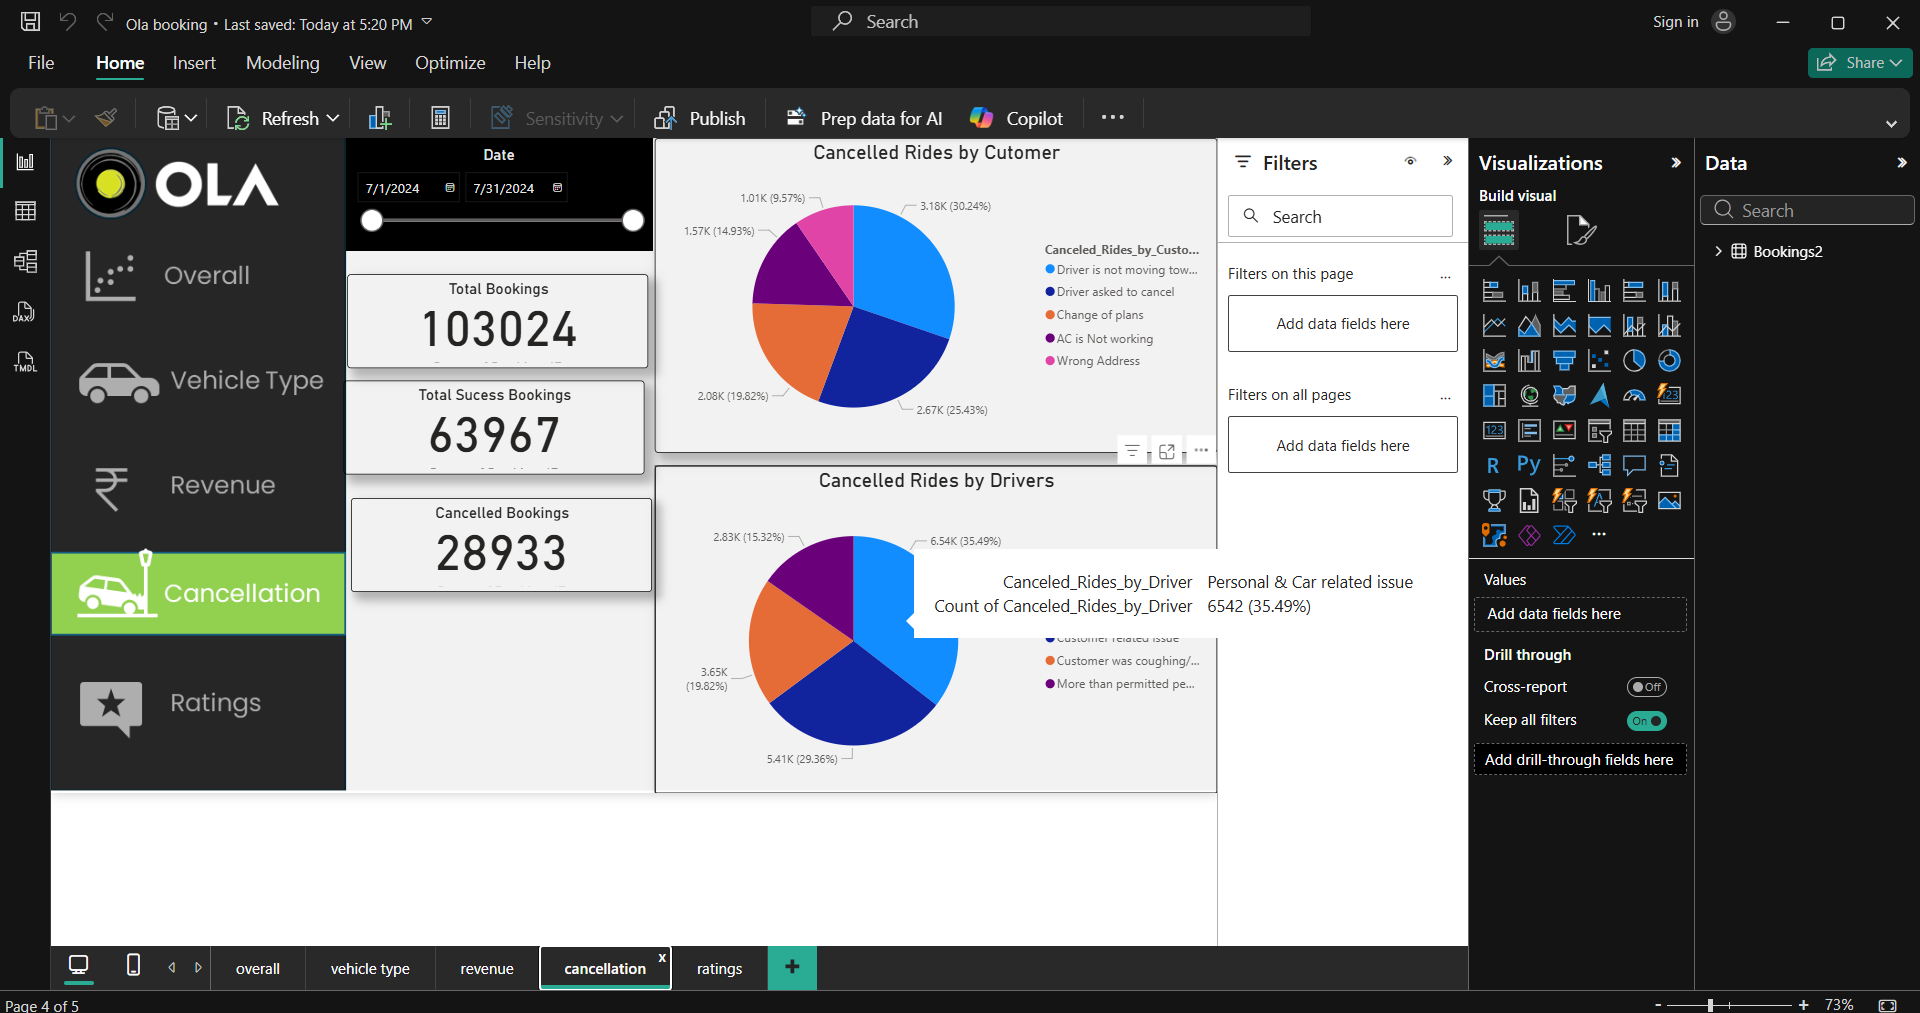

What the dashboard file says about the page in this screenshot:
{"tool":"powerbi","page":{"name":"cancellation","canvas":[1280,720],"ordinal":3},"visuals":[{"type":"actionButton","box":[0,219.6,321.5,93.3],"z":0},{"type":"actionButton","box":[0,223.3,321.5,93.3],"z":1000},{"type":"actionButton","box":[0,108,321.5,93.3],"z":2000},{"type":"actionButton","box":[2.5,335,321.2,93.8],"z":3000},{"type":"actionButton","box":[2.5,581.2,318.8,85],"z":4000},{"type":"actionButton","box":[2.5,115,318.8,86.2],"z":5000},{"type":"pieChart","title":"Cancelled Rides by Cutomer","fields":{"Category":["Bookings2.Canceled_Rides_by_Customer"],"Y":["CountNonNull(Bookings2.Canceled_Rides_by_Customer)"]},"box":[662.8,0,617.5,345.8],"z":6000},{"type":"pieChart","title":"Cancelled Rides by Drivers","fields":{"Category":["Bookings2.Canceled_Rides_by_Driver"],"Y":["CountNonNull(Bookings2.Canceled_Rides_by_Driver)"]},"box":[662.8,359.5,617.5,360.9],"z":7000},{"type":"slicer","title":"Date","fields":{"Values":["Bookings2.Date"]},"box":[323.8,0,336.2,123.8],"z":8000},{"type":"card","title":"Total Bookings","fields":{"Values":["Count(Bookings2.Booking_ID)"]},"box":[325.2,149.6,330.7,102.9],"z":9000},{"type":"card","title":"Total Sucess Bookings","fields":{"Values":["Count(Bookings2.Booking_ID)"]},"box":[321.1,266.2,330.7,102.9],"z":10000},{"type":"card","title":"Cancelled Bookings","fields":{"Values":["Count(Bookings2.Booking_ID)"]},"box":[329.3,395.2,330.7,102.9],"z":11000}]}

Visuals, with their boxes on the page's 1280x720 design canvas (x1, y1, x2, y2). These are canvas units, not pixel positions in the 1920x1013 screenshot, which may show the page scaled, cropped or inside an application window:
actionButton: (0, 220, 322, 313)
actionButton: (0, 223, 322, 317)
actionButton: (0, 108, 322, 201)
actionButton: (2, 335, 324, 429)
actionButton: (2, 581, 321, 666)
actionButton: (2, 115, 321, 201)
"Cancelled Rides by Cutomer" pieChart: (663, 0, 1280, 346)
"Cancelled Rides by Drivers" pieChart: (663, 360, 1280, 720)
"Date" slicer: (324, 0, 660, 124)
"Total Bookings" card: (325, 150, 656, 252)
"Total Sucess Bookings" card: (321, 266, 652, 369)
"Cancelled Bookings" card: (329, 395, 660, 498)
